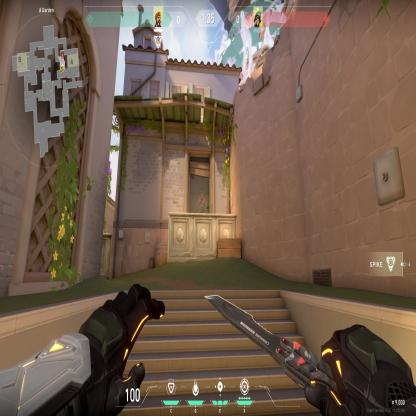enemy: (198, 191, 206, 215)
